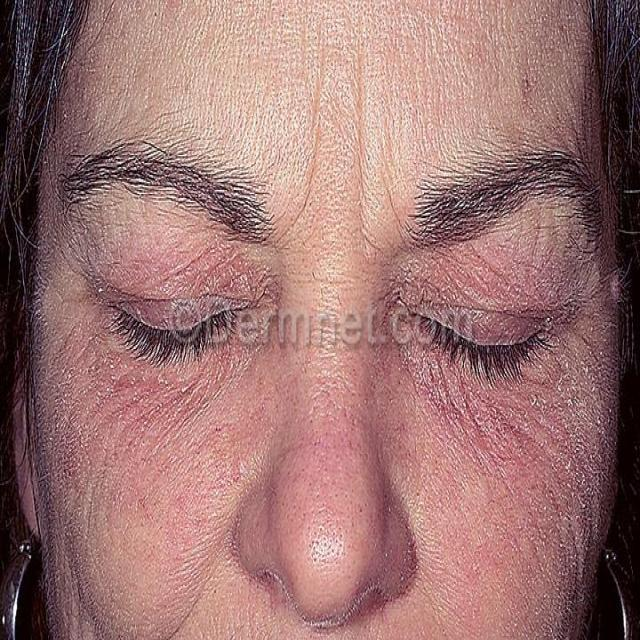Eczema: (371, 235, 608, 523), (55, 235, 271, 430)
